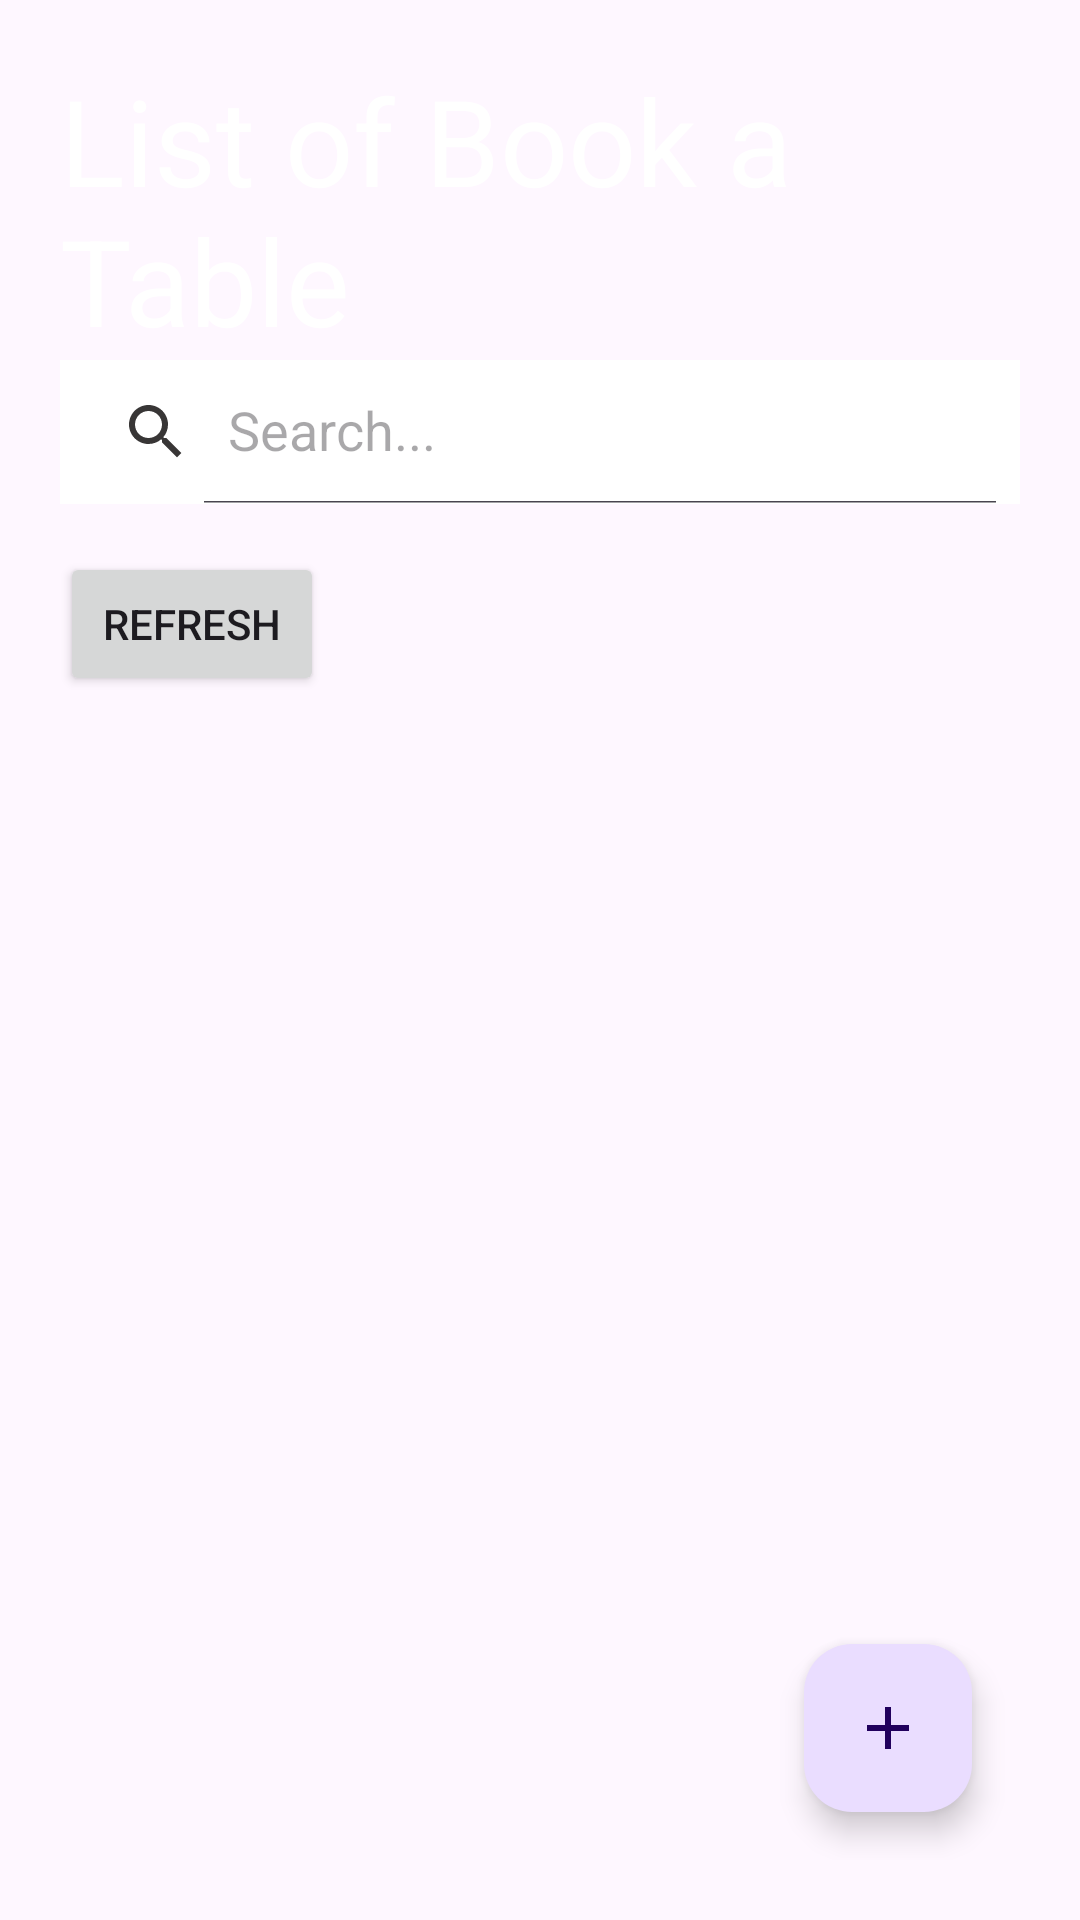

Locate icon controls on the screen. Image size 1080*1920, boxes as bbox(x1, y1, x2, y2).
add: bbox(804, 1644, 972, 1812)
